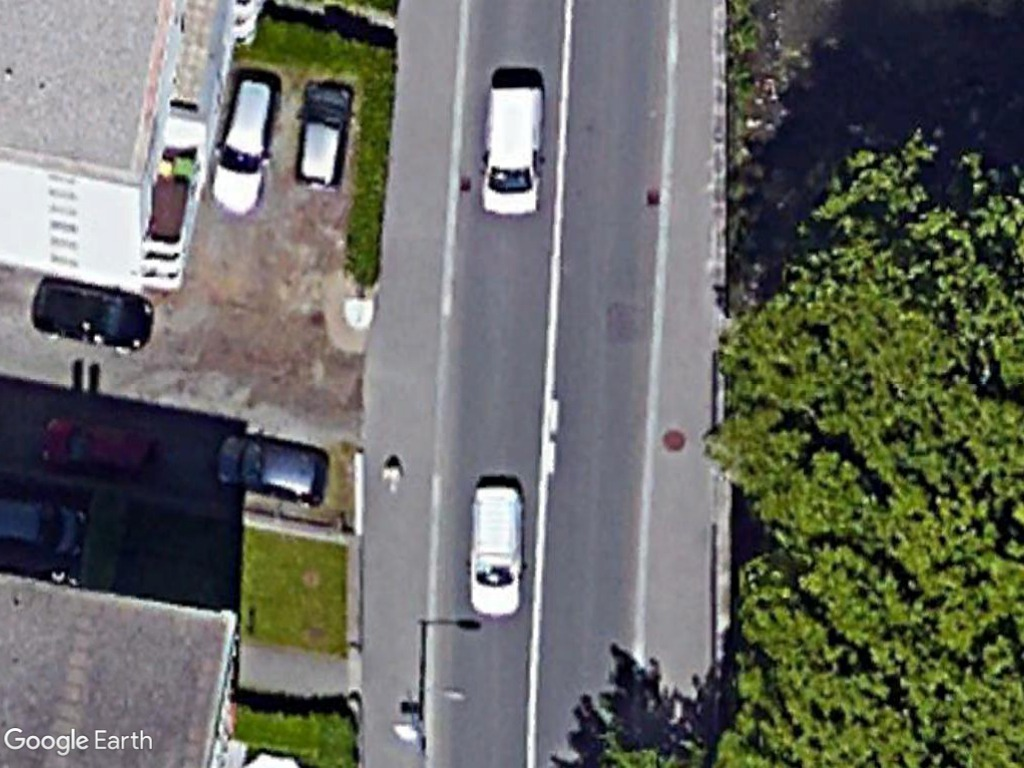car: (211, 64, 291, 221), (25, 273, 161, 351), (207, 431, 336, 503), (290, 77, 354, 198)
van: (474, 77, 549, 221), (459, 479, 530, 620)
